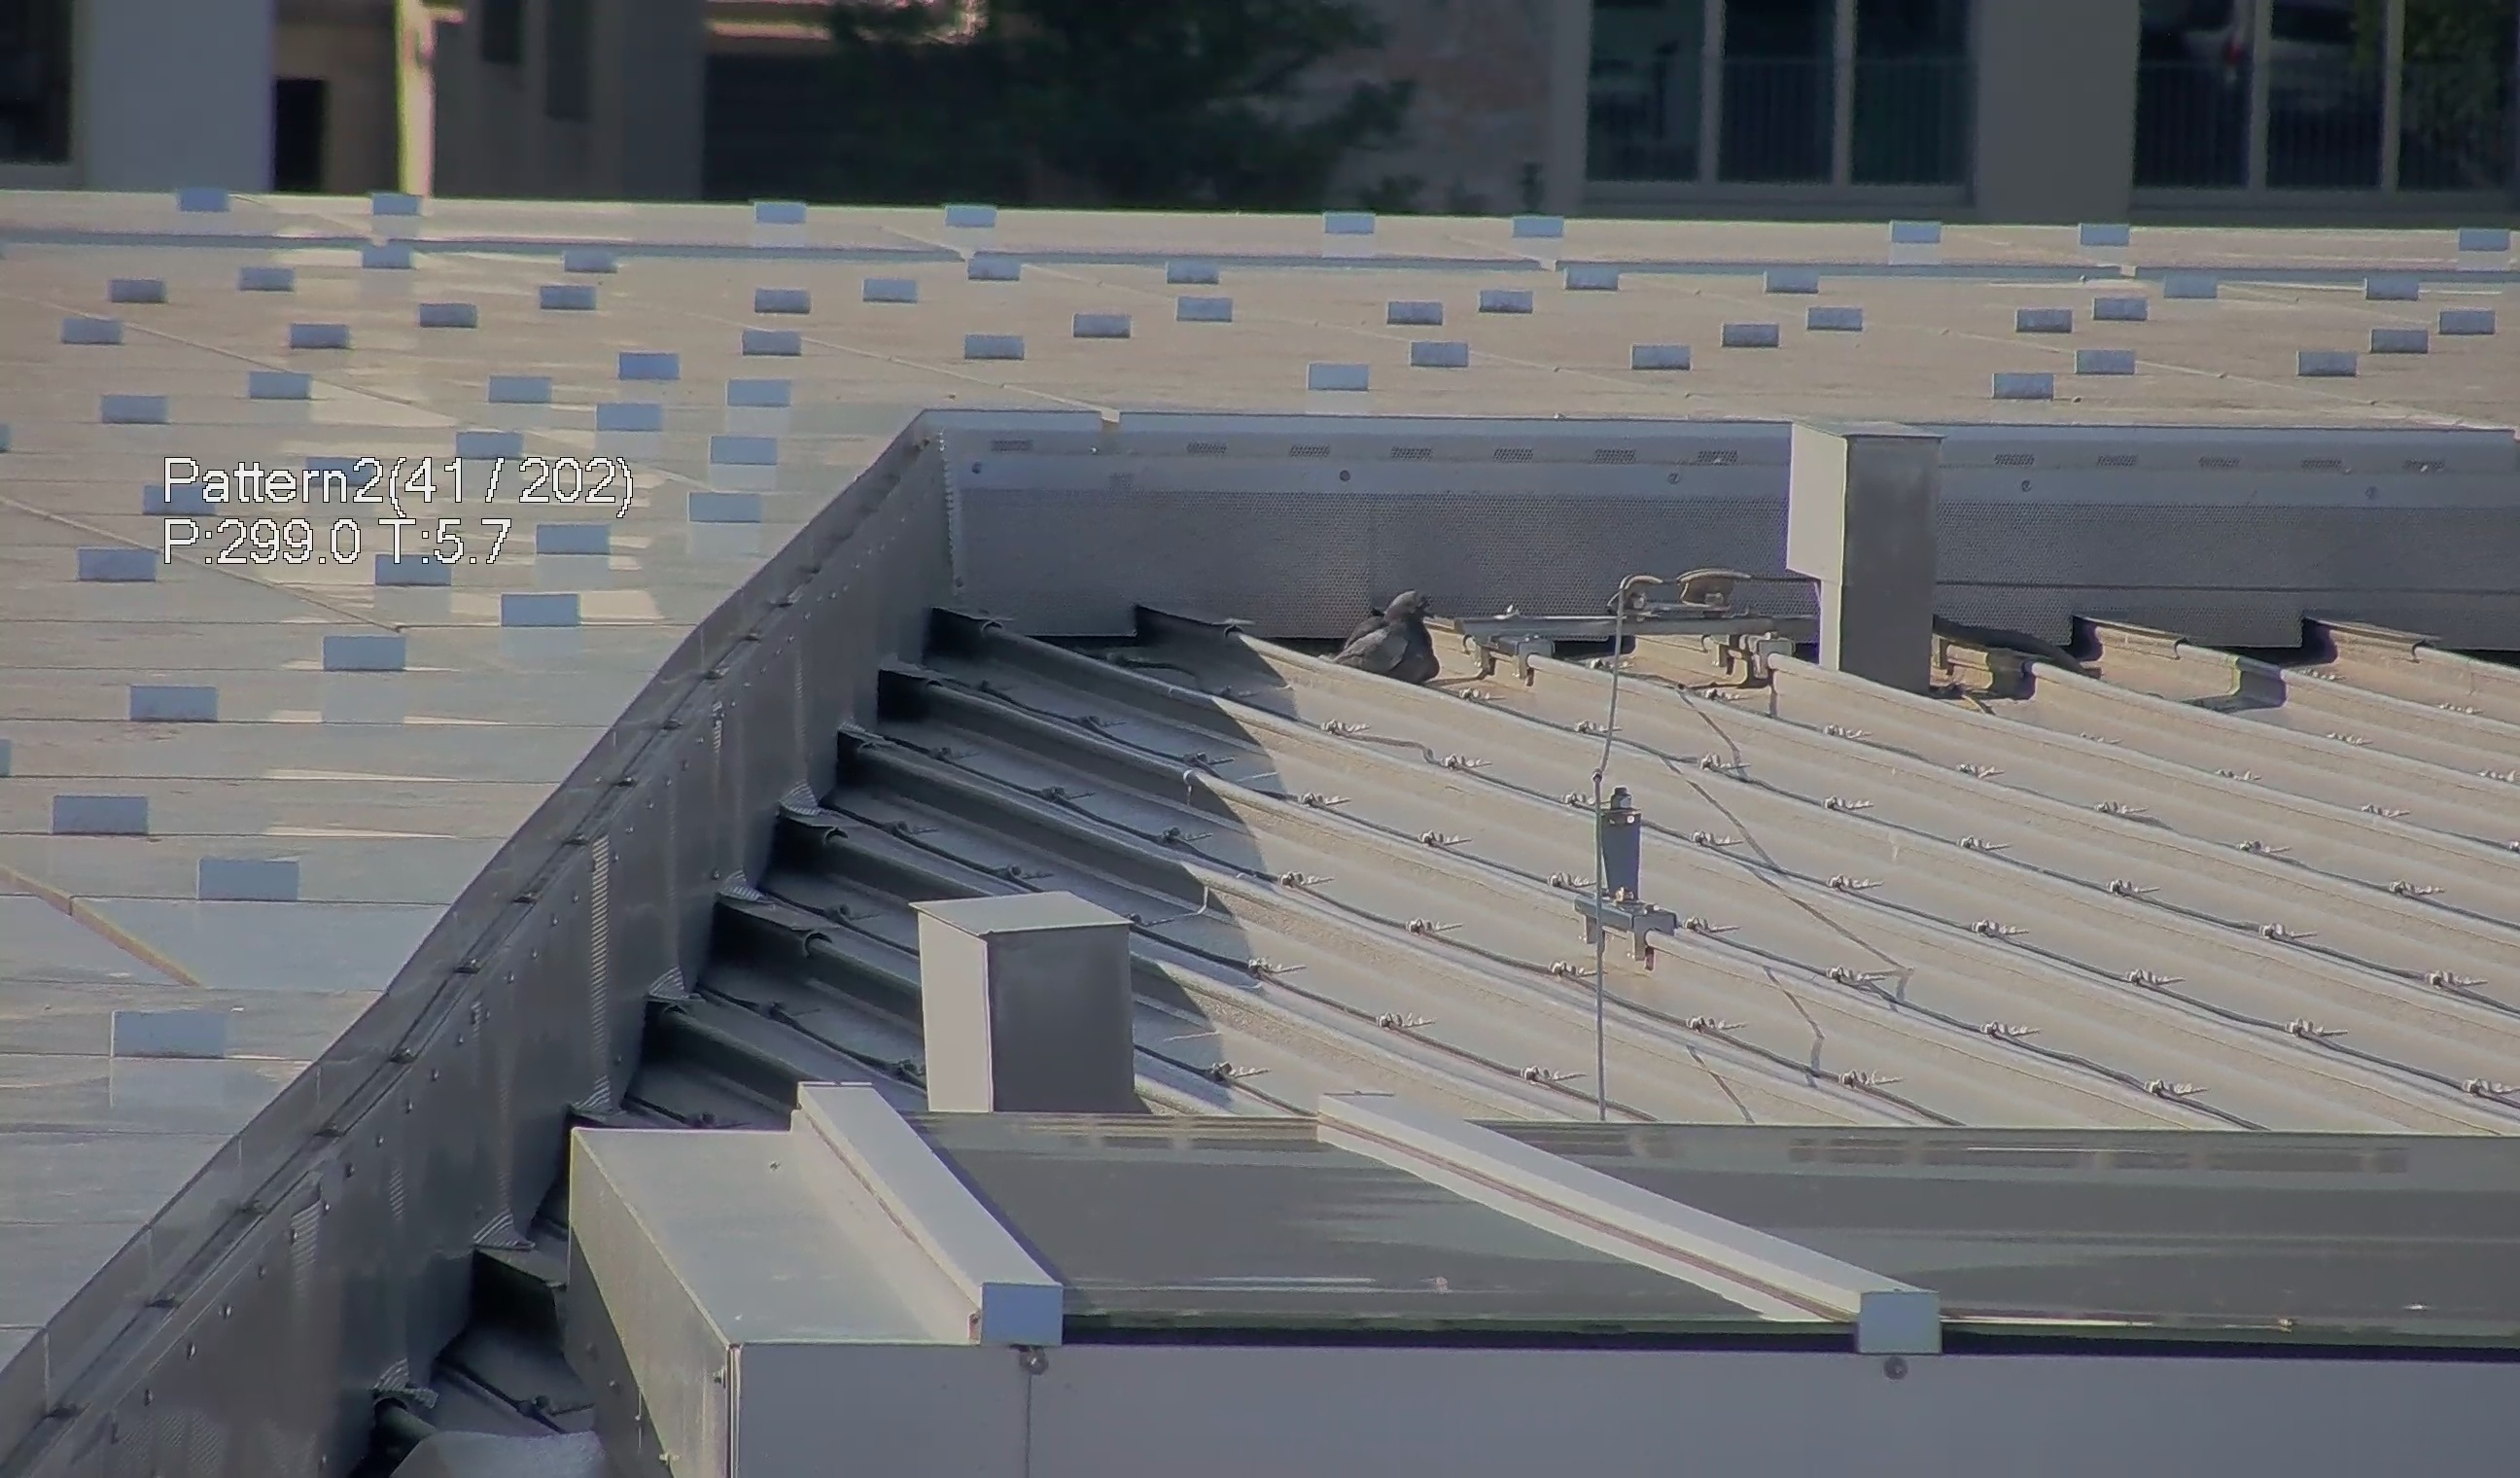Pigeon: (1321, 584, 1447, 688)
